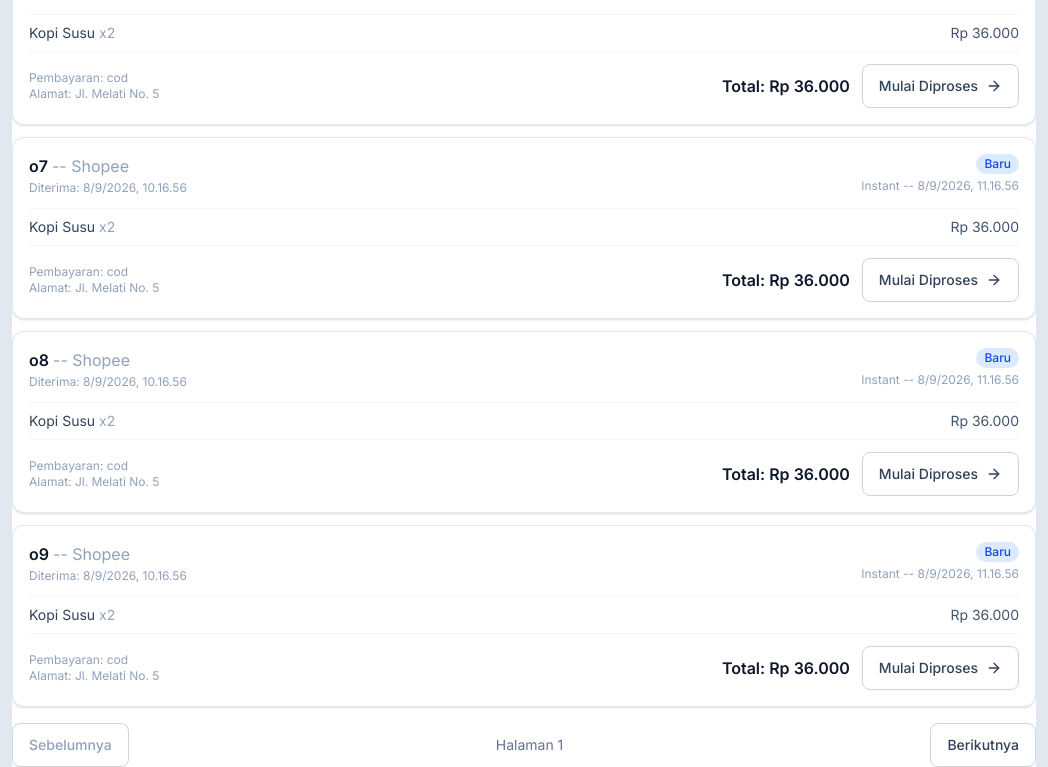
Test case: OrdersPage › pagination › hasil sepenuh pageSize -- tombol Berikutnya aktif, klik pindah ke page 2
(page scrolled)
Expected: the text "Halaman 1" is shown, [496,735,563,755]
Click the button "Berikutnya".
click(983, 745)  # box [930,723,1036,766]
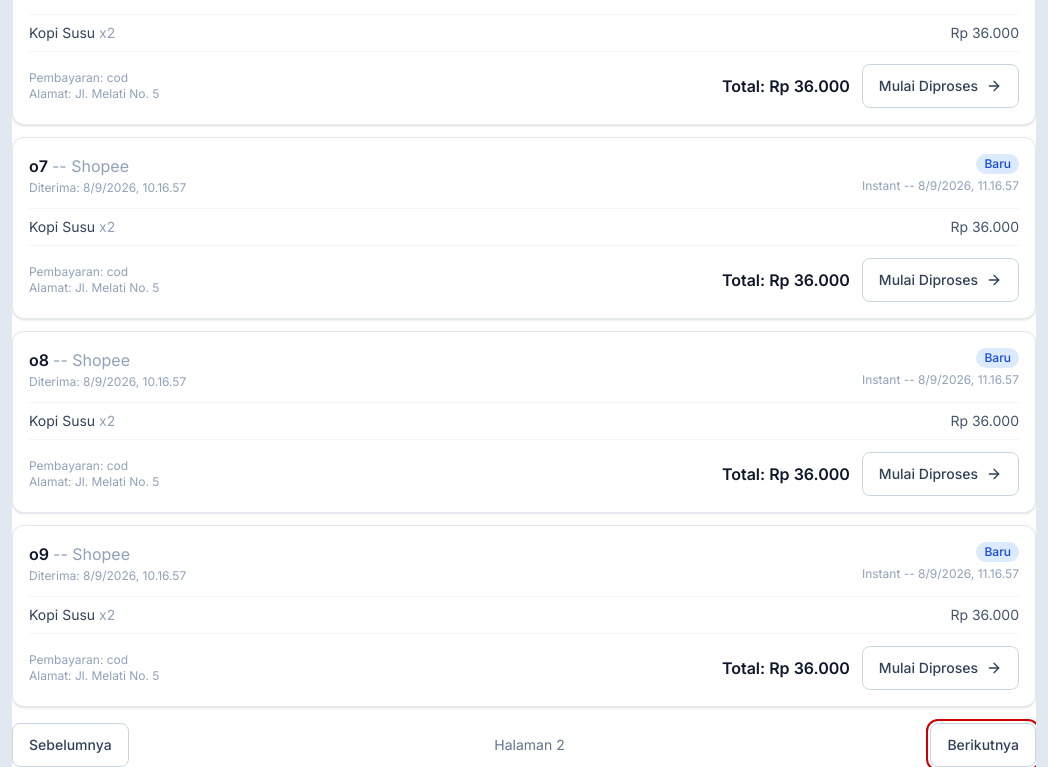
Result: the text "Halaman 2" is shown at [494,735,565,755]
